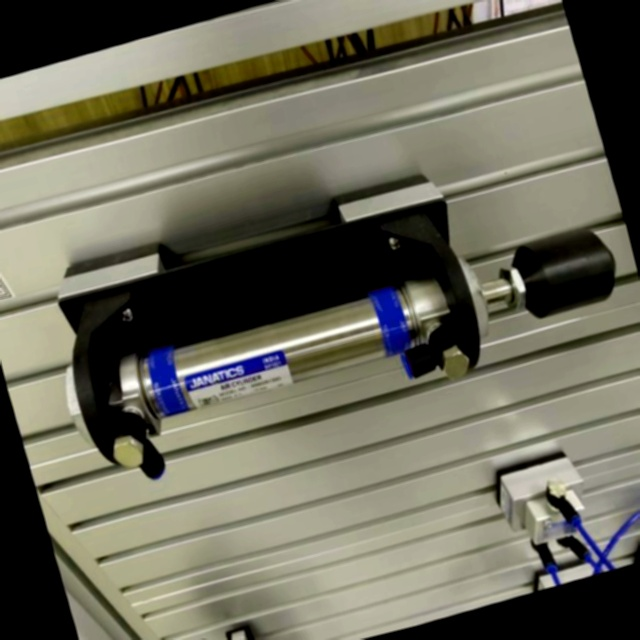double acting pneumatic cylinder: (22, 106, 640, 506)
